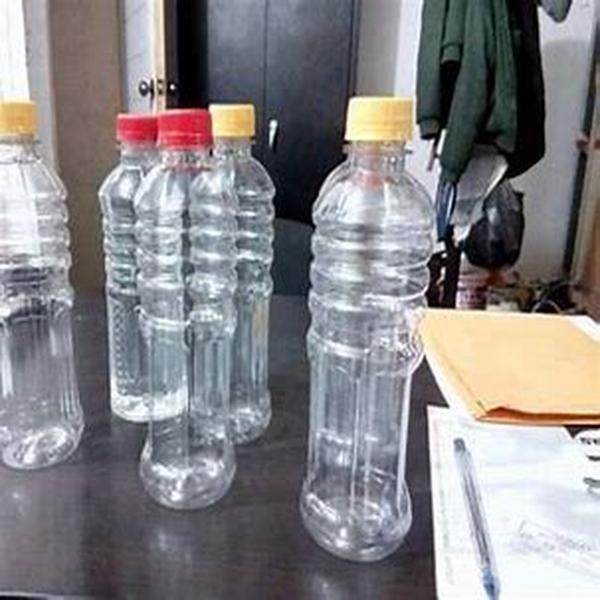tutuma: (299, 84, 435, 565), (131, 103, 237, 512), (1, 94, 93, 480)
